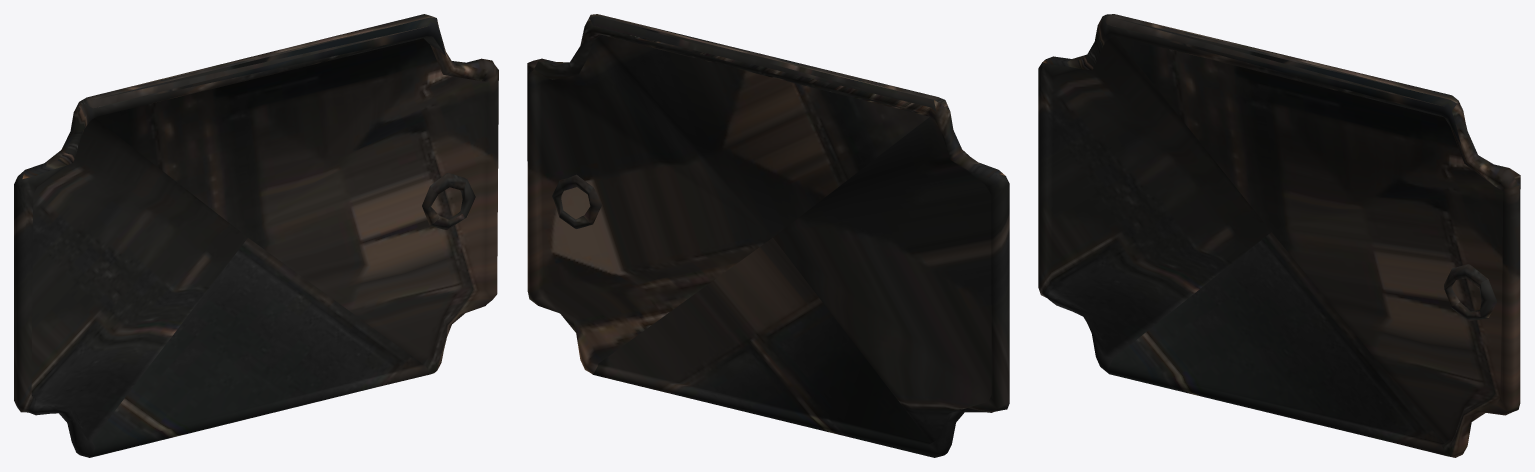
File: RoomNumber6.fbx
3 views of the same model, side by side, from view 1: azimuth 30°, elevation 25°; view 2: azimuth 150°, elevation 25°; view 3: azimuth 330°, elevation 25° (orthographic).
Visible parts, largest first — view 1: RoomNumber6; view 2: RoomNumber6; view 3: RoomNumber6.
Part boxes in pixels (x1,y1,x2,y2): RoomNumber6: [14, 14, 498, 457]; RoomNumber6: [527, 14, 1009, 457]; RoomNumber6: [1038, 14, 1520, 457].
Size of the model in its own units: 174 by 124 by 6.47.
